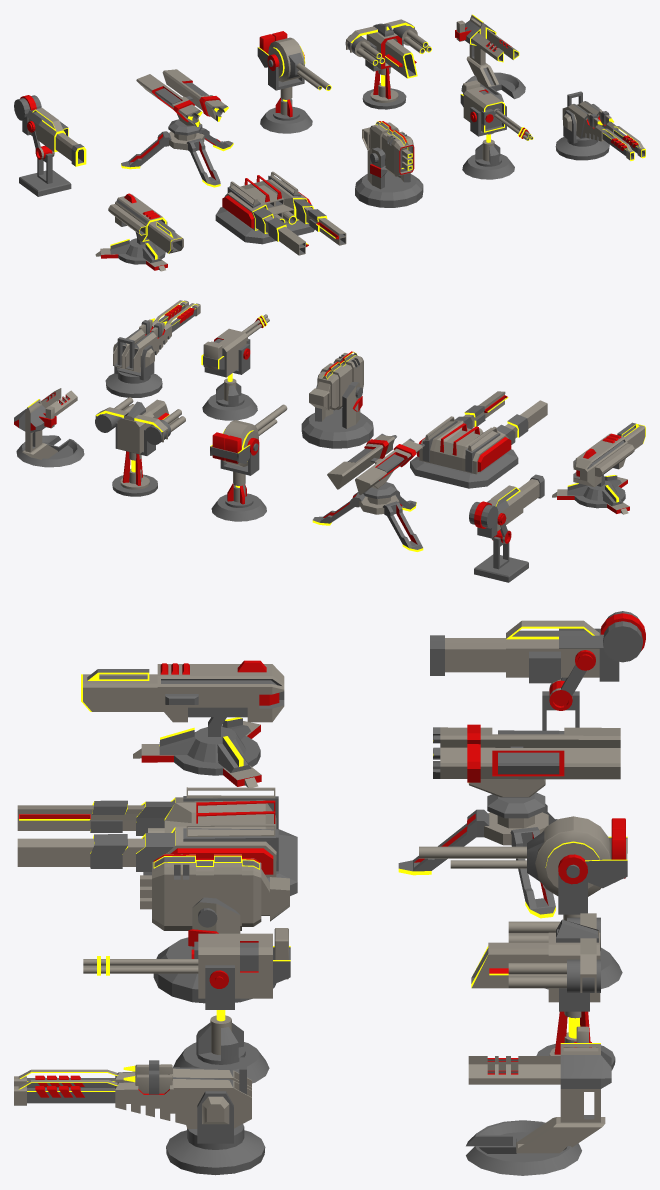
File: turrets.glb
The picture shows the model from 3 angles, top to bottom: view 1: azimuth 30°, elevation 25°; view 2: azimuth 150°, elevation 25°; view 3: azimuth 270°, elevation 25°; orthographic projection. The views are drawn at different scales.
Visible parts, largest first — view 1: Cube.005, Cube.008, Cube.004, Cylinder.026, Cube.001, Cube.006, Cube.007, Cylinder.028, Cube.002, Cylinder.027; view 2: Cube.005, Cube.008, Cube.004, Cylinder.026, Cylinder.028, Cube.007, Cube.001, Cube.006, Cube.002, Cylinder.027; view 3: Cube.005, Cube.008, Cube.007, Cylinder.028, Cylinder.027, Cube.006, Cube.004, Cube.002, Cylinder.026, Cube.001.
Part boxes in pixels (x1=…): Cube.005: x1=215, y1=171, x2=346, y2=255; Cube.008: x1=121, y1=69, x2=233, y2=187; Cube.004: x1=355, y1=121, x2=423, y2=207; Cylinder.026: x1=345, y1=19, x2=431, y2=109; Cube.001: x1=257, y1=31, x2=331, y2=133; Cube.006: x1=14, y1=95, x2=86, y2=196; Cube.007: x1=95, y1=193, x2=183, y2=271; Cylinder.028: x1=555, y1=91, x2=645, y2=160; Cube.002: x1=460, y1=80, x2=533, y2=179; Cylinder.027: x1=455, y1=14, x2=525, y2=101; Cube.005: x1=410, y1=391, x2=547, y2=488; Cube.008: x1=312, y1=433, x2=424, y2=551; Cube.004: x1=301, y1=351, x2=373, y2=448; Cylinder.026: x1=95, y1=397, x2=185, y2=496; Cylinder.028: x1=105, y1=300, x2=200, y2=397; Cube.007: x1=552, y1=422, x2=645, y2=514; Cube.001: x1=210, y1=404, x2=287, y2=521; Cube.006: x1=469, y1=474, x2=544, y2=582; Cube.002: x1=201, y1=314, x2=269, y2=420; Cylinder.027: x1=14, y1=388, x2=84, y2=467; Cube.005: x1=17, y1=787, x2=297, y2=895; Cube.008: x1=398, y1=724, x2=620, y2=918; Cube.007: x1=81, y1=660, x2=284, y2=787; Cylinder.028: x1=14, y1=1057, x2=265, y2=1175; Cylinder.027: x1=466, y1=1026, x2=611, y2=1175; Cube.006: x1=430, y1=611, x2=645, y2=734; Cube.004: x1=140, y1=854, x2=289, y2=1003; Cube.002: x1=83, y1=928, x2=290, y2=1083; Cylinder.026: x1=471, y1=913, x2=615, y2=1070; Cube.001: x1=419, y1=816, x2=627, y2=989.
Size of the model in its own units: 9.17 by 1.49 by 5.48.
